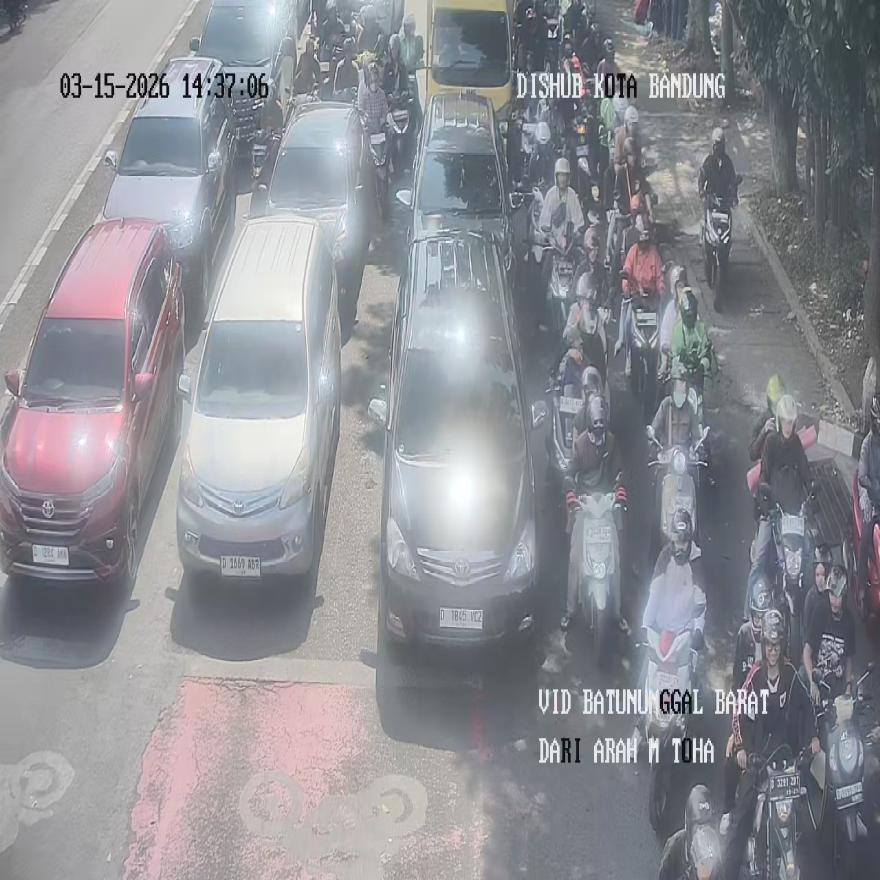Motor: (368, 232, 548, 648), (0, 218, 190, 584), (176, 214, 341, 581), (102, 56, 238, 324), (396, 92, 522, 282)
Truk: (805, 663, 873, 879), (643, 629, 703, 833), (575, 486, 624, 668), (747, 746, 812, 879), (646, 426, 709, 558), (547, 363, 610, 493), (770, 486, 818, 656), (843, 472, 879, 622), (701, 192, 737, 309), (544, 222, 580, 338), (630, 290, 661, 422), (568, 103, 599, 215), (606, 200, 633, 297), (365, 118, 390, 221), (527, 181, 549, 277), (573, 0, 602, 72), (514, 104, 539, 185), (389, 93, 411, 178), (319, 34, 347, 98), (252, 130, 279, 182), (682, 365, 704, 425), (545, 0, 563, 69), (5, 0, 28, 33), (333, 88, 357, 105)
